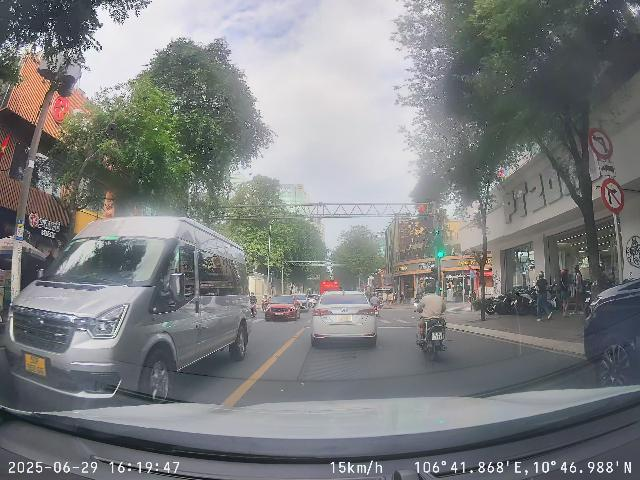123a-cam-re-trai: (588, 127, 613, 159)
123b-cam-re-phai: (601, 178, 625, 213)
